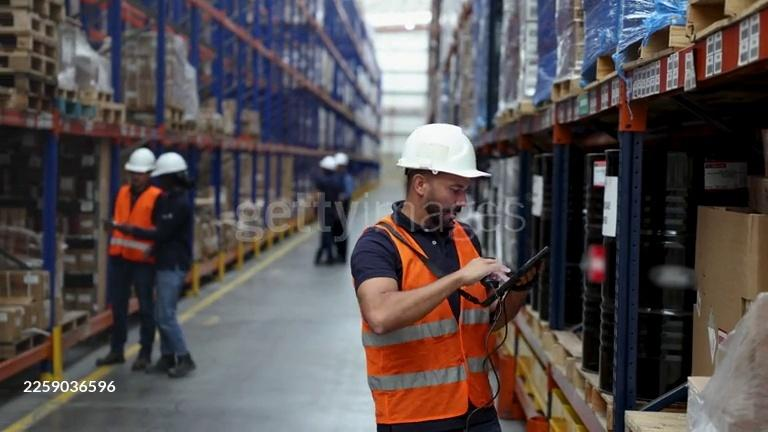helmet: (397, 123, 492, 182), (123, 148, 156, 175), (152, 153, 187, 176)
person: (349, 125, 540, 431), (95, 149, 163, 372), (142, 154, 197, 381), (314, 157, 340, 267), (334, 152, 353, 264)
